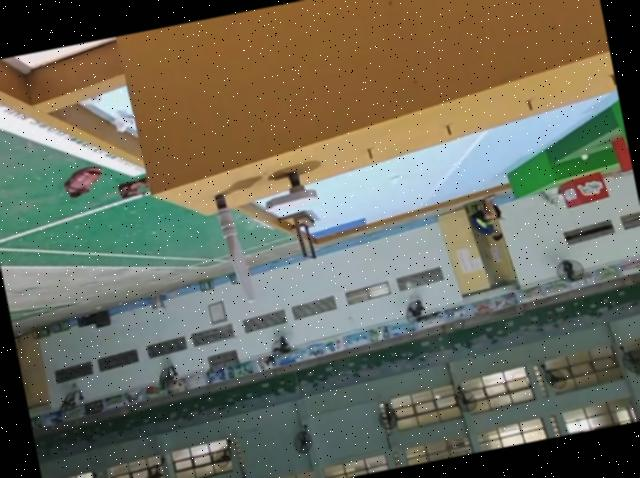Hand: (259, 165, 318, 213)
Sph: (212, 185, 256, 305)
